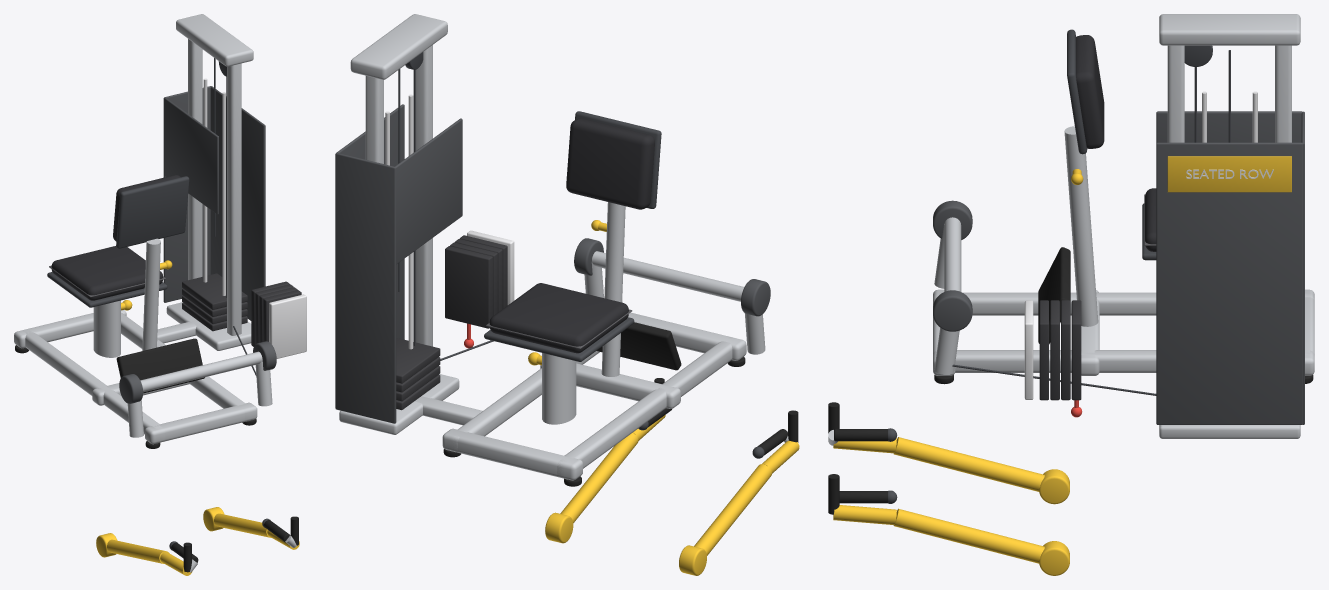
File: SeatedRow.fbx
3 renders of one model, left to right at view 1: azimuth 30°, elevation 25°; view 2: azimuth 150°, elevation 25°; view 3: azimuth 270°, elevation 25°, orthographic. The views are drawn at different scales.
Visible parts, largest first — view 1: Shroud_Side_Out, Shroud_Side_In, Tower_Post_1, Chest_Pad_Shell, Seat, Shroud_Back, Base_Rail_L, Foot_Plate, Tower_Post_2, Head_Plate, Tower_Top, Base_Cross_1 (+26 smaller); view 2: Shroud_Back, Shroud_Side_In, Chest_Pad, Seat, Base_Rail_L, Plate_1, Tower_Post_1, Tower_Top, Base_Cross_3, Chest_Post, Seat_Column, Front_Cross_Top (+21 smaller); view 3: Shroud_Side_Out, Tower_Top, Placard, Chest_Post, Base_Rail_R, Shroud_Side_In, Base_Rail_L, Row_Arm_R, Row_Arm_L, Chest_Pad, Tower_Base, Tower_Post_1 (+22 smaller).
Boxes of the visible parts, x1,y1,x2,y2 form: Shroud_Side_Out: (210, 86, 265, 320); Shroud_Side_In: (164, 97, 218, 214); Tower_Post_1: (227, 63, 241, 335); Chest_Pad_Shell: (116, 176, 189, 248); Seat: (51, 246, 163, 300); Shroud_Back: (163, 86, 211, 302); Base_Rail_L: (22, 329, 165, 442); Foot_Plate: (116, 338, 204, 393); Tower_Post_2: (188, 39, 202, 280); Head_Plate: (269, 294, 306, 358); Tower_Top: (176, 14, 253, 66); Base_Cross_1: (145, 402, 257, 444); Shroud_Back: (335, 153, 396, 423); Shroud_Side_In: (395, 118, 462, 264); Chest_Pad: (566, 118, 654, 209); Seat: (489, 283, 628, 353); Base_Rail_L: (557, 337, 736, 478); Plate_1: (445, 246, 492, 328); Tower_Post_1: (415, 45, 432, 346); Tower_Top: (350, 14, 447, 79); Base_Cross_3: (442, 428, 582, 480); Chest_Post: (601, 202, 625, 376); Seat_Column: (542, 353, 576, 424); Front_Cross_Top: (592, 251, 744, 301); Shroud_Side_Out: (1156, 142, 1302, 424); Tower_Top: (1159, 14, 1300, 45); Placard: (1167, 156, 1291, 192); Chest_Post: (1064, 126, 1098, 326); Base_Rail_R: (933, 350, 1314, 372); Shroud_Side_In: (1156, 111, 1302, 142); Base_Rail_L: (933, 292, 1314, 315); Row_Arm_R: (893, 508, 1044, 563); Row_Arm_L: (893, 437, 1044, 491); Chest_Pad: (1076, 35, 1104, 148); Tower_Base: (1159, 425, 1300, 438); Tower_Post_1: (1167, 45, 1184, 142).
Bounding box in the file's own units: 1.21 × 2.31 × 1.72.
